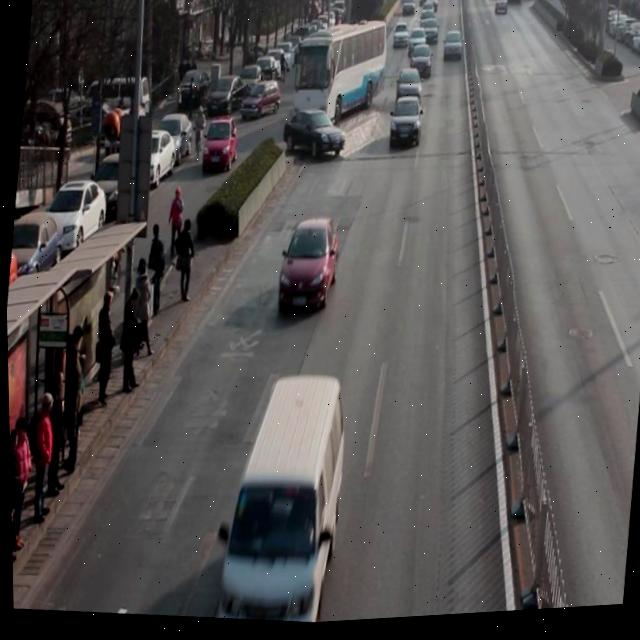car: (273, 218, 342, 322), (279, 107, 348, 167), (387, 99, 425, 157), (393, 71, 424, 117), (407, 48, 434, 88)
truck: (209, 373, 351, 631)
van: (288, 18, 390, 136)
